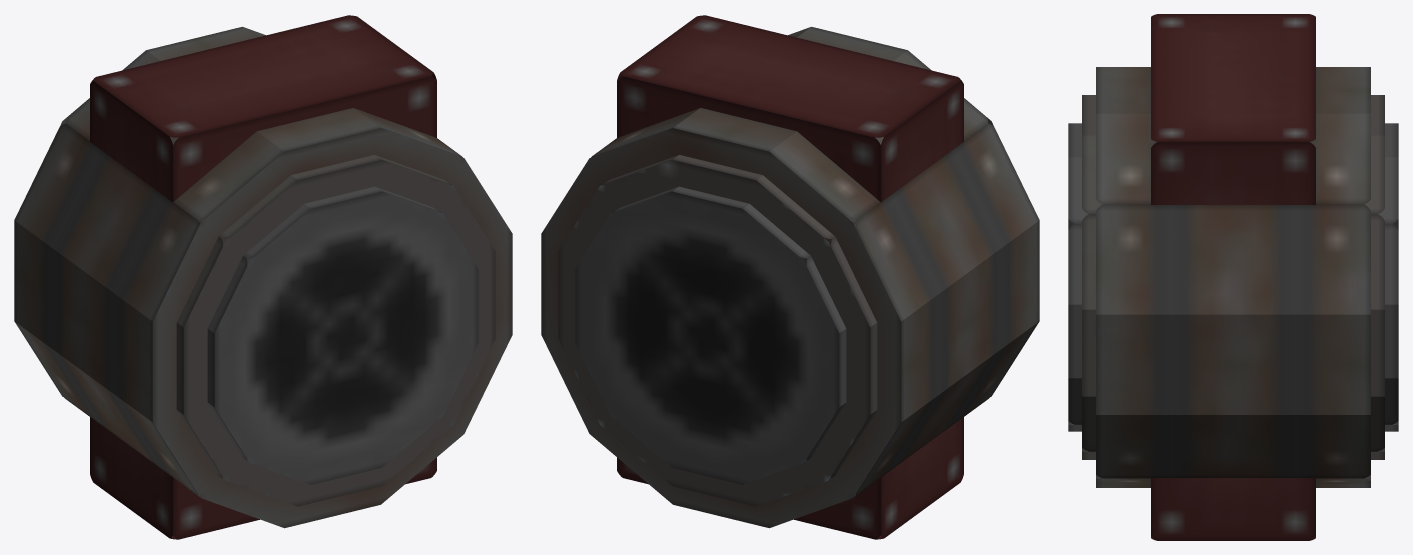
File: clutch.obj
3 renders of one model, left to right at view 1: azimuth 30°, elevation 25°; view 2: azimuth 150°, elevation 25°; view 3: azimuth 270°, elevation 25°, orthographic.
Parts seen in each view (by area): view 1: 1; view 2: 1; view 3: 1.
Boxes of the visible parts, x1,y1,x2,y2 form: 1: (14, 15, 512, 539); 1: (541, 15, 1039, 539); 1: (1068, 14, 1398, 540).
Bounding box in the file's own units: 0.9375 × 1 × 0.75.
